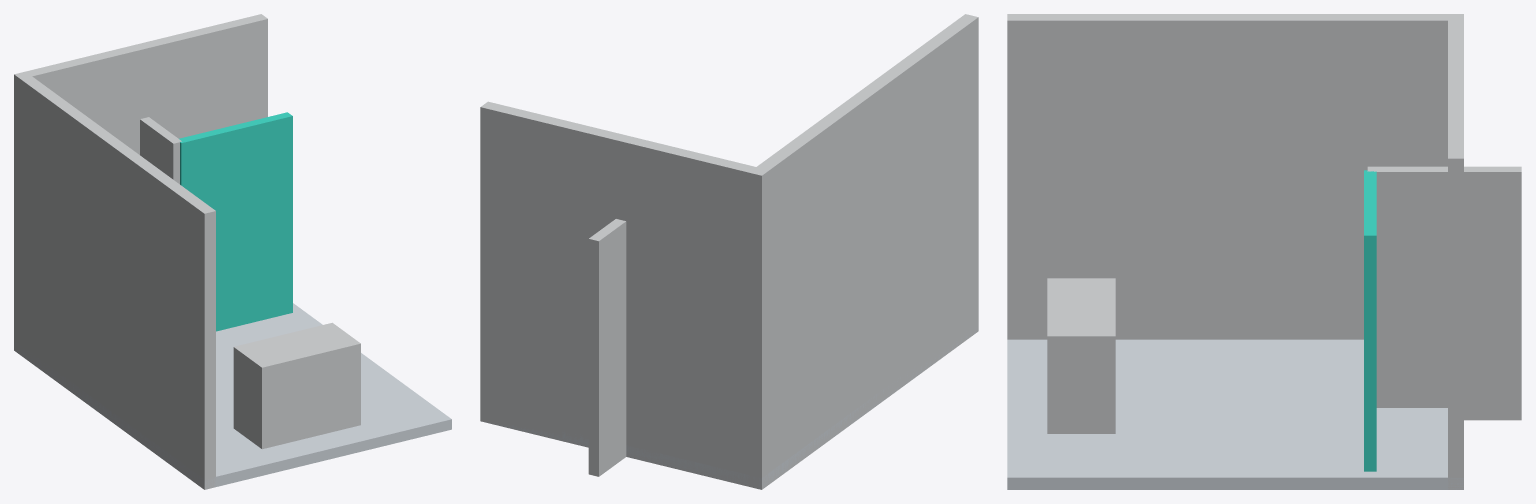
The picture shows the model from 3 angles, left to right: view 1: azimuth 30°, elevation 25°; view 2: azimuth 150°, elevation 25°; view 3: azimuth 270°, elevation 25°; orthographic projection. The views are drawn at different scales.
Parts seen in each view (by area): view 1: Exhibition Booth Concept; view 2: Exhibition Booth Concept; view 3: Exhibition Booth Concept.
Boxes of the visible parts, x1,y1,x2,y2 form: Exhibition Booth Concept: [14, 14, 451, 489]; Exhibition Booth Concept: [480, 14, 978, 489]; Exhibition Booth Concept: [1007, 14, 1521, 489].
Bounding box in the file's own units: 3 × 3.2 × 4.51.
